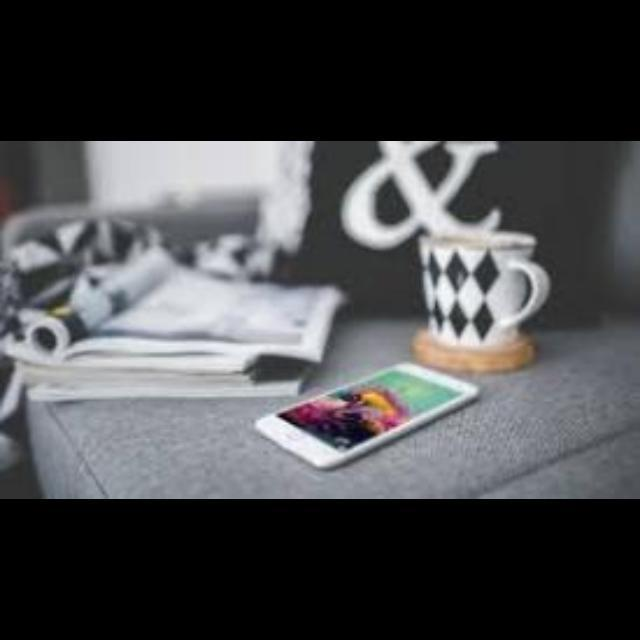PhoneUse: (252, 364, 478, 472)
